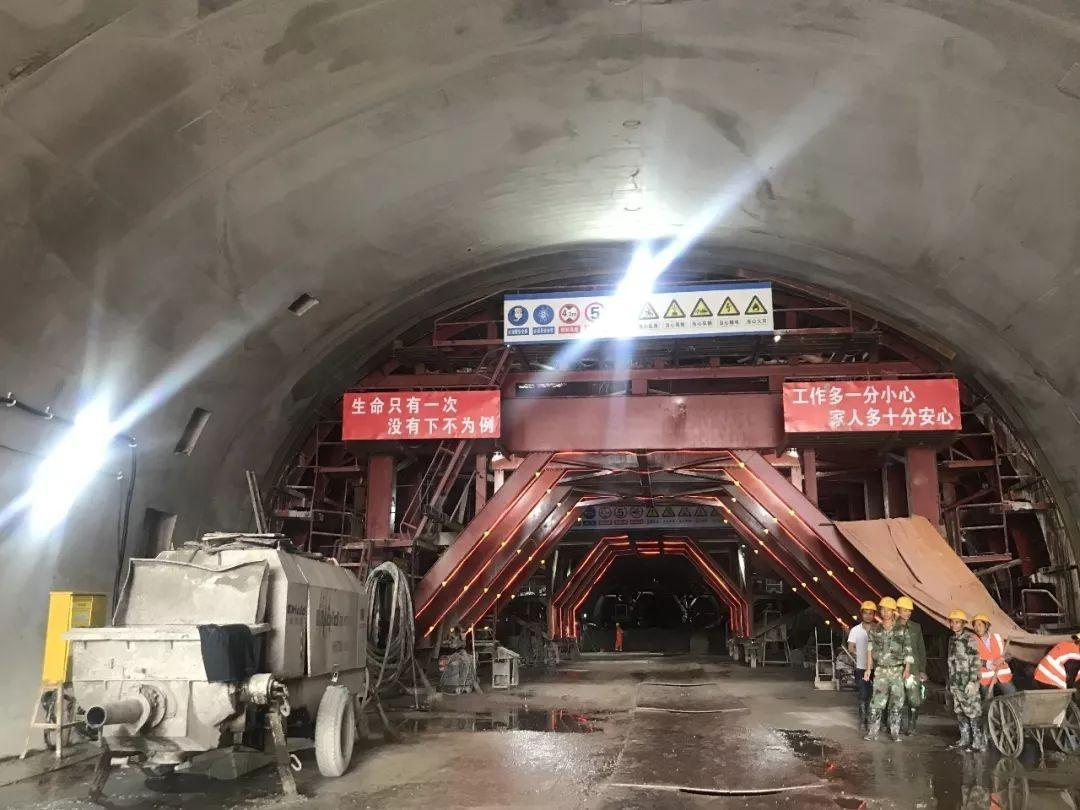NoVest: (871, 622, 911, 669)
Vest: (1034, 640, 1080, 689), (974, 635, 1013, 686)
